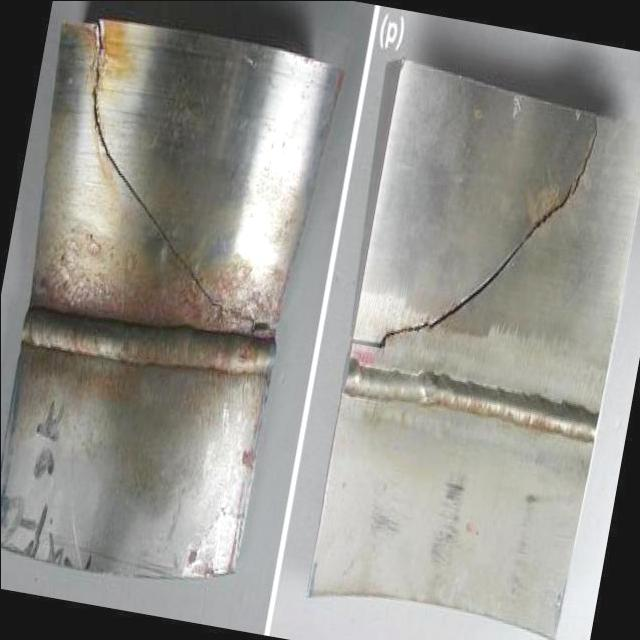defect: (346, 106, 599, 352), (87, 11, 277, 338)
